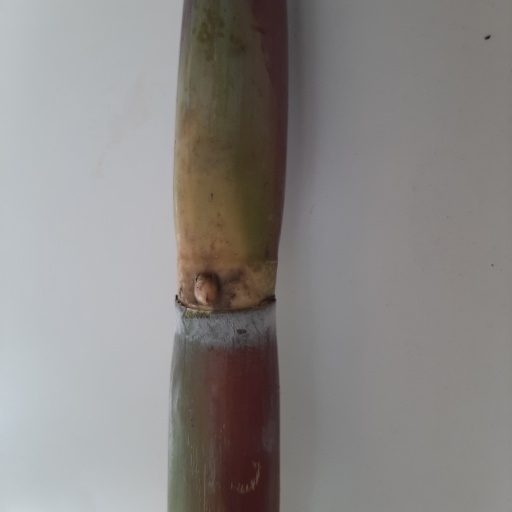Bud: (191, 272, 222, 309)
